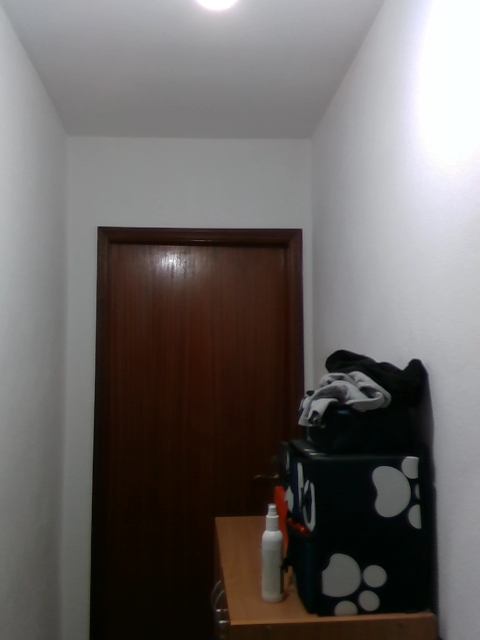closed: (86, 218, 301, 639)
